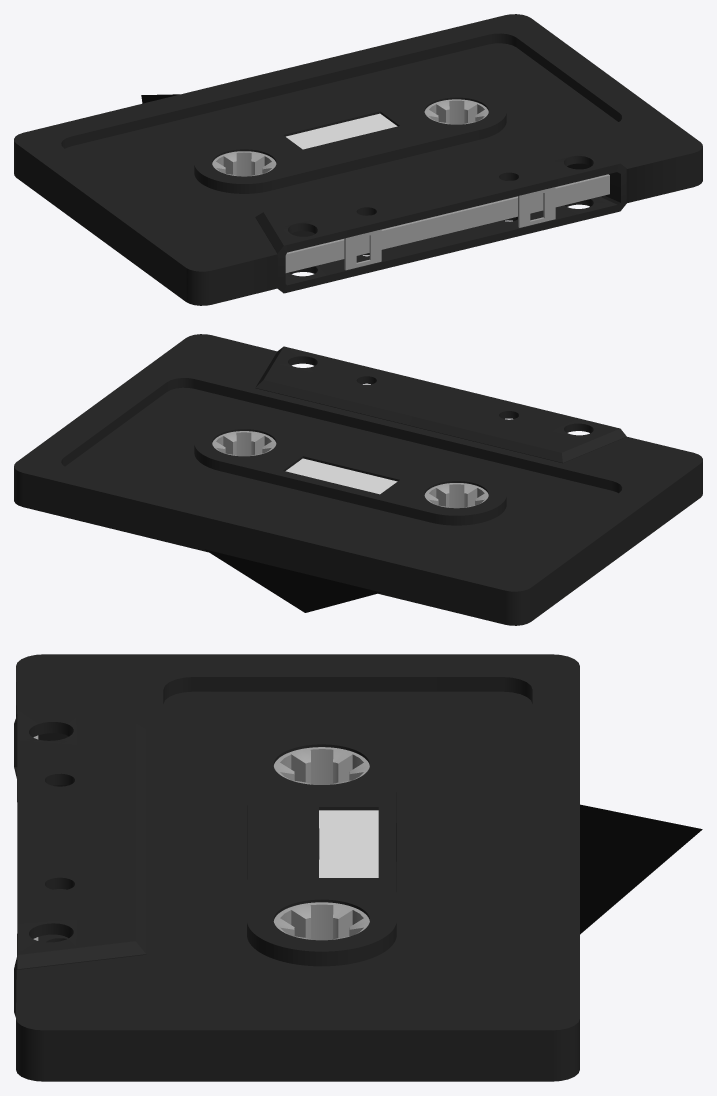
Rendered from bilinn.fbx.
3 renders of one model, top to bottom at view 1: azimuth 30°, elevation 25°; view 2: azimuth 150°, elevation 25°; view 3: azimuth 270°, elevation 25°, orthographic. The views are drawn at different scales.
Parts seen in each view (by area): view 1: pCube8; view 2: pCube8; view 3: pCube8.
Part boxes in pixels (x1,y1,x2,y2): pCube8: [14, 14, 702, 305]; pCube8: [14, 334, 702, 625]; pCube8: [14, 654, 702, 1081].
Bounding box in the file's own units: 28.65 × 2.61 × 22.18.
Materials: 5 (1 with a texture image).
